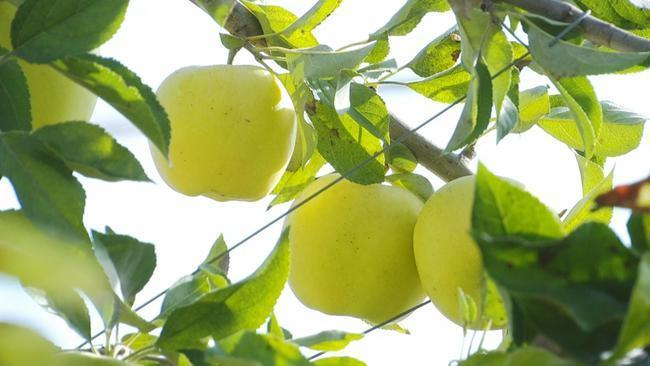apple: (284, 163, 423, 323), (412, 172, 545, 332), (146, 63, 297, 201)
